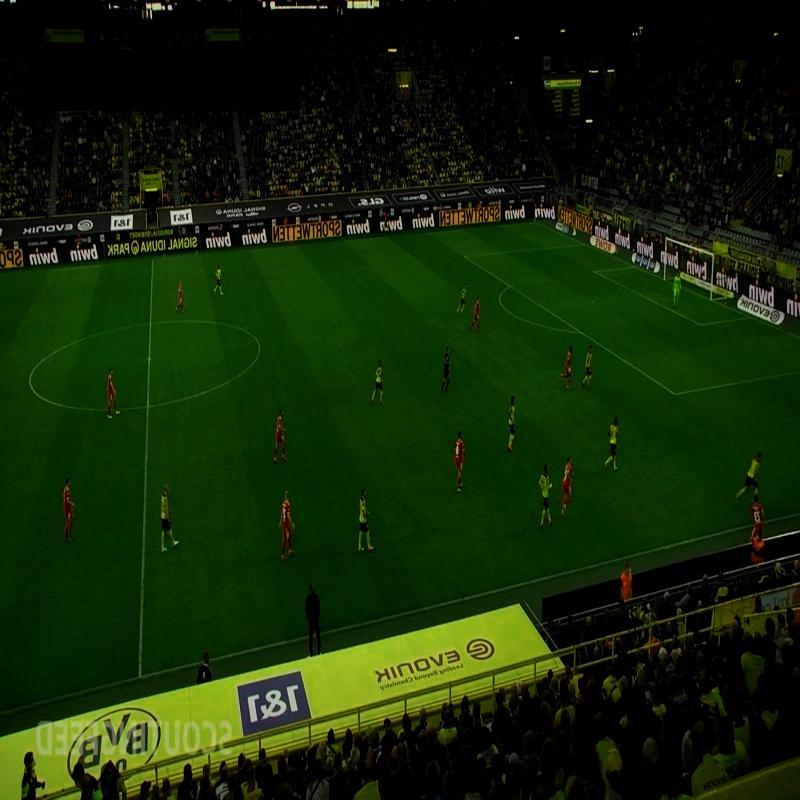1: (528, 218, 542, 232)
10: (502, 278, 516, 292)
11: (574, 326, 588, 340)
12: (668, 388, 682, 403)
13: (146, 252, 160, 266)
14: (144, 315, 158, 329)
15: (141, 398, 155, 412)
16: (130, 666, 152, 689)
2: (578, 238, 592, 252)
3: (630, 259, 644, 273)
4: (744, 310, 758, 324)
7: (589, 264, 603, 278)
8: (692, 316, 706, 330)
9: (459, 249, 473, 262)
c: (252, 336, 267, 356), (24, 374, 38, 388)
